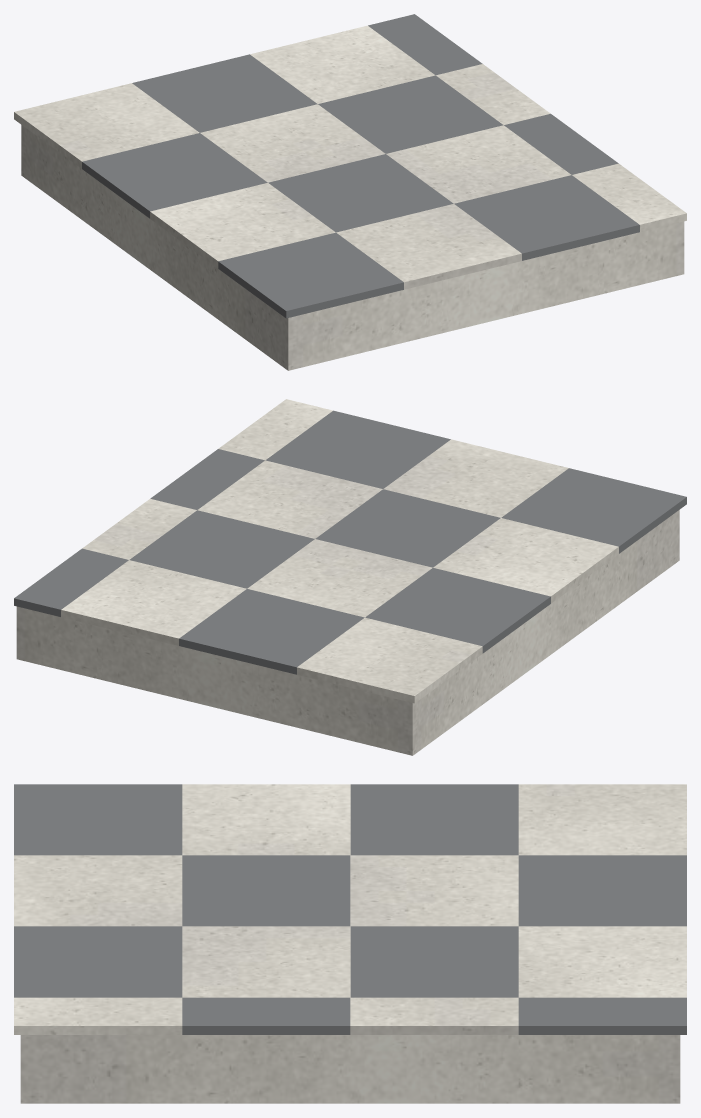
The model's file is floor_marble_u_e0100.glb.
3 renders of one model, top to bottom at view 1: azimuth 30°, elevation 25°; view 2: azimuth 150°, elevation 25°; view 3: azimuth 270°, elevation 25°, orthographic. The views are drawn at different scales.
Parts seen in each view (by area): view 1: floor_marble_u_e0100_slate, floor_marble_u_e0100_marble, floor_marble_u_e0100_plaster; view 2: floor_marble_u_e0100_marble, floor_marble_u_e0100_slate, floor_marble_u_e0100_plaster; view 3: floor_marble_u_e0100_marble, floor_marble_u_e0100_slate, floor_marble_u_e0100_plaster.
Boxes of the visible parts, x1,y1,x2,y2 form: floor_marble_u_e0100_slate: (82, 14, 639, 318); floor_marble_u_e0100_marble: (14, 25, 686, 289); floor_marble_u_e0100_plaster: (21, 125, 684, 370); floor_marble_u_e0100_marble: (61, 399, 618, 703); floor_marble_u_e0100_slate: (14, 410, 686, 674); floor_marble_u_e0100_plaster: (16, 510, 679, 755); floor_marble_u_e0100_marble: (14, 784, 686, 1034); floor_marble_u_e0100_slate: (14, 784, 686, 1034); floor_marble_u_e0100_plaster: (20, 1035, 680, 1103).
Size of the model in its own units: 1.7 by 0.255 by 2.
3 materials, 2 textured.
